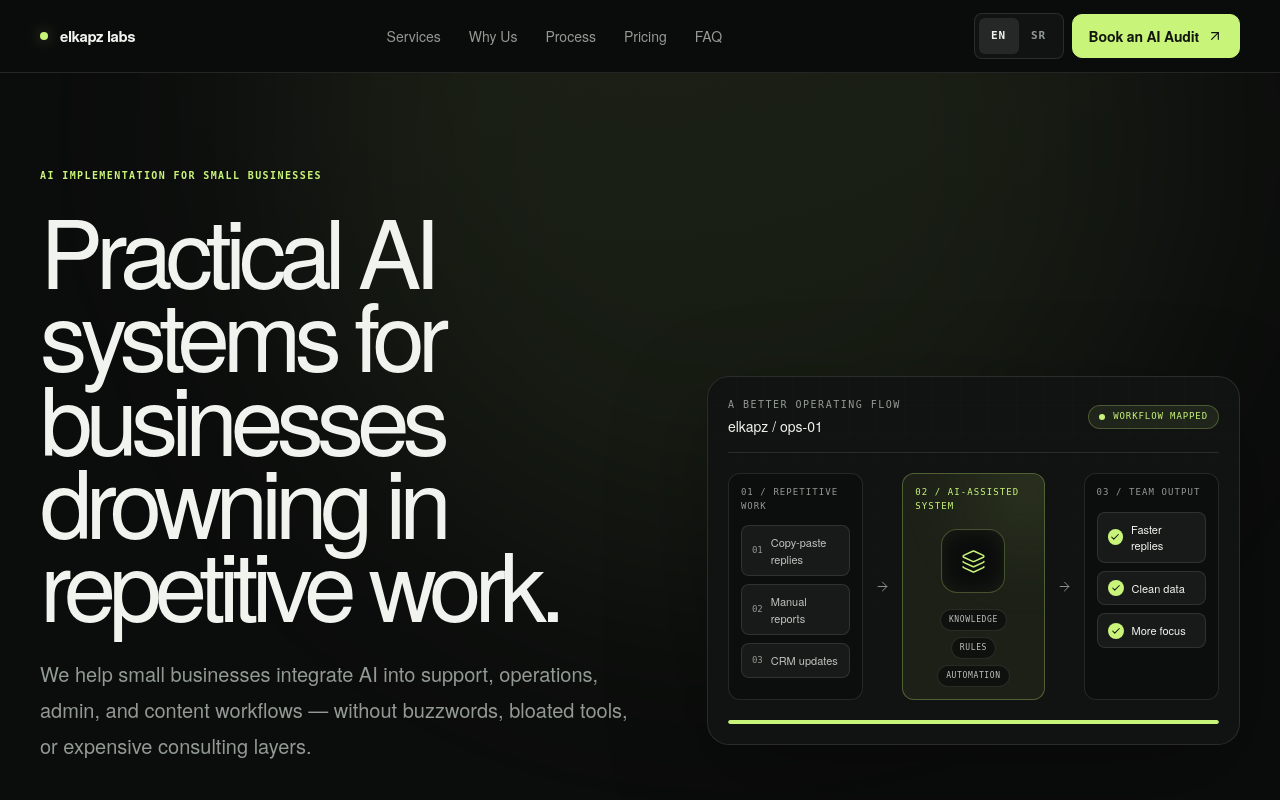
it: complete landing page › updates visible content and document metadata in Serbian
Click the button with aria-label "Srpski".
click(1039, 36)  # box [1019, 18, 1059, 54]
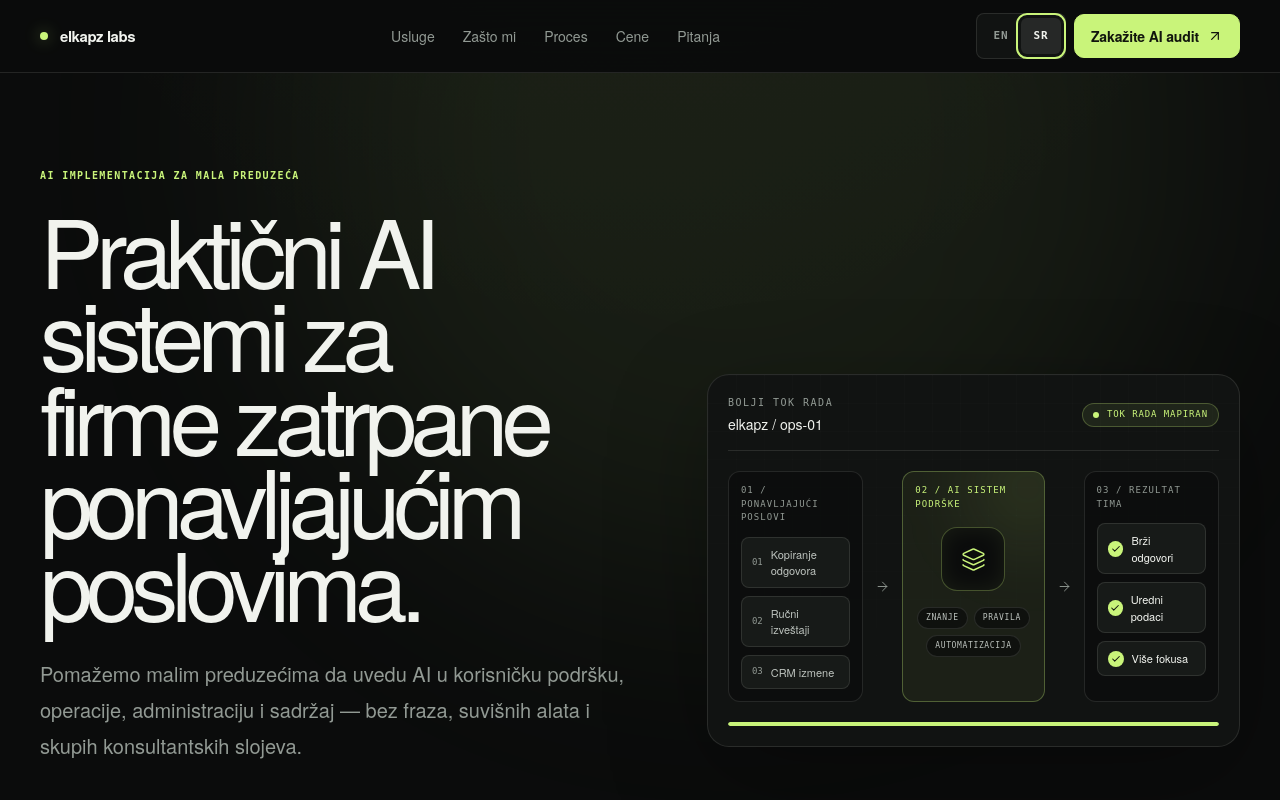
Now the heading "Praktični AI sistemi za firme" is shown, box [40, 207, 635, 624]
